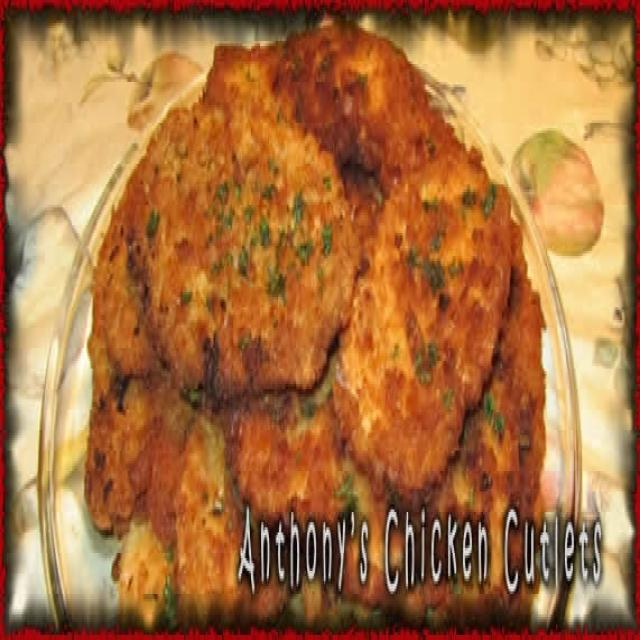鸡肉料理 含炸鸡: (69, 18, 574, 627)
